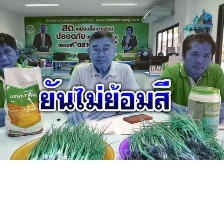insecticide: (2, 62, 47, 140), (185, 84, 223, 145)
phone: (120, 112, 154, 125)
